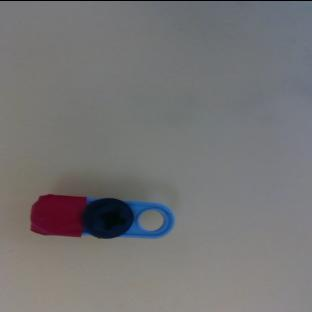part_1_good: (29, 193, 175, 242)
